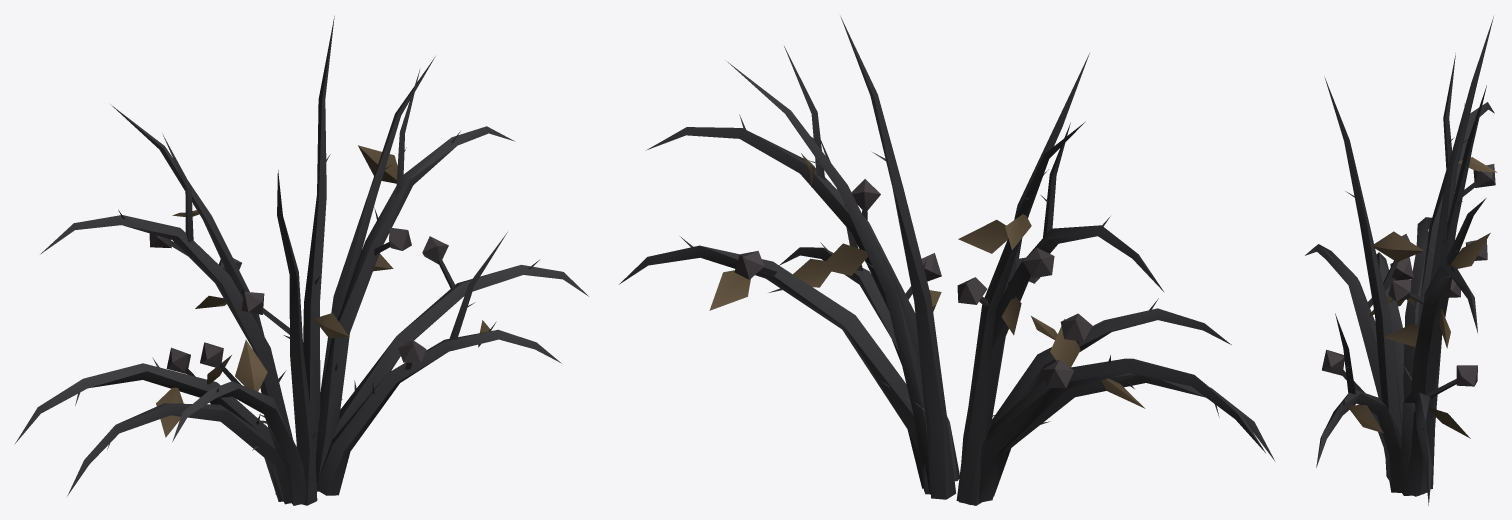
Rendered from p_thorn_bush.glb.
The picture shows the model from 3 angles, left to right: view 1: azimuth 30°, elevation 25°; view 2: azimuth 150°, elevation 25°; view 3: azimuth 270°, elevation 25°; orthographic projection. The views are drawn at different scales.
Parts seen in each view (by area): view 1: p_thorn_bush; view 2: p_thorn_bush; view 3: p_thorn_bush.
Boxes of the visible parts, x1,y1,x2,y2 form: p_thorn_bush: (15,16,588,505); p_thorn_bush: (619,16,1274,505); p_thorn_bush: (1305,16,1497,505).
Size of the model in its own units: 1.41 by 1.02 by 0.4156.
